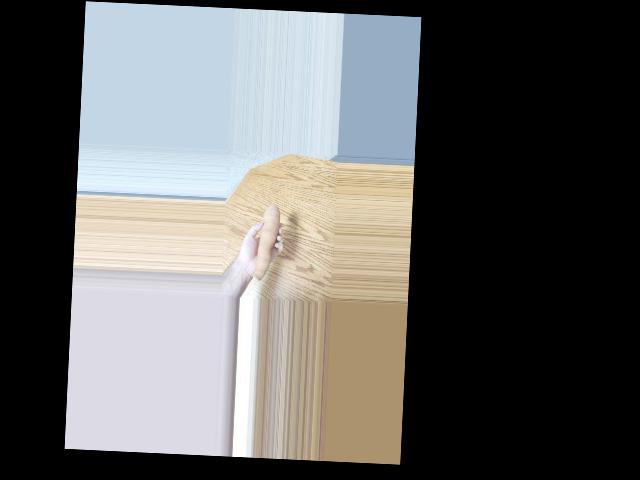sweet_potato: (252, 203, 286, 277)
